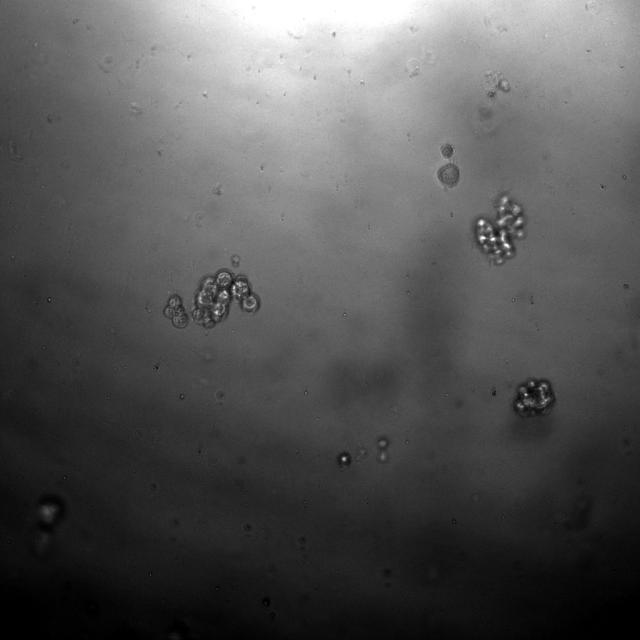organoid: (192, 269, 258, 328), (474, 195, 524, 265), (514, 379, 554, 416), (163, 294, 188, 328), (436, 163, 460, 188), (441, 143, 454, 159)
